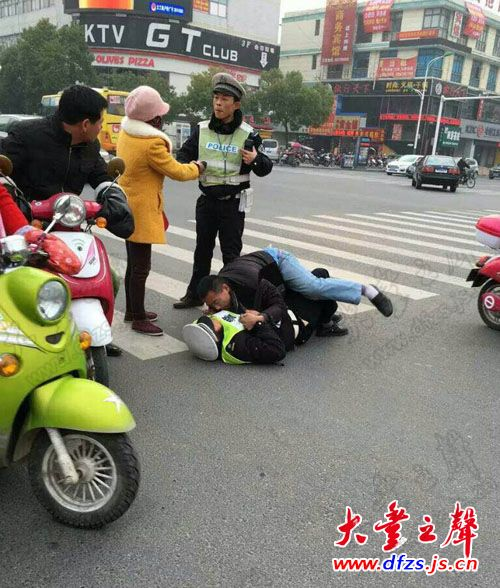fall: (174, 236, 383, 362)
